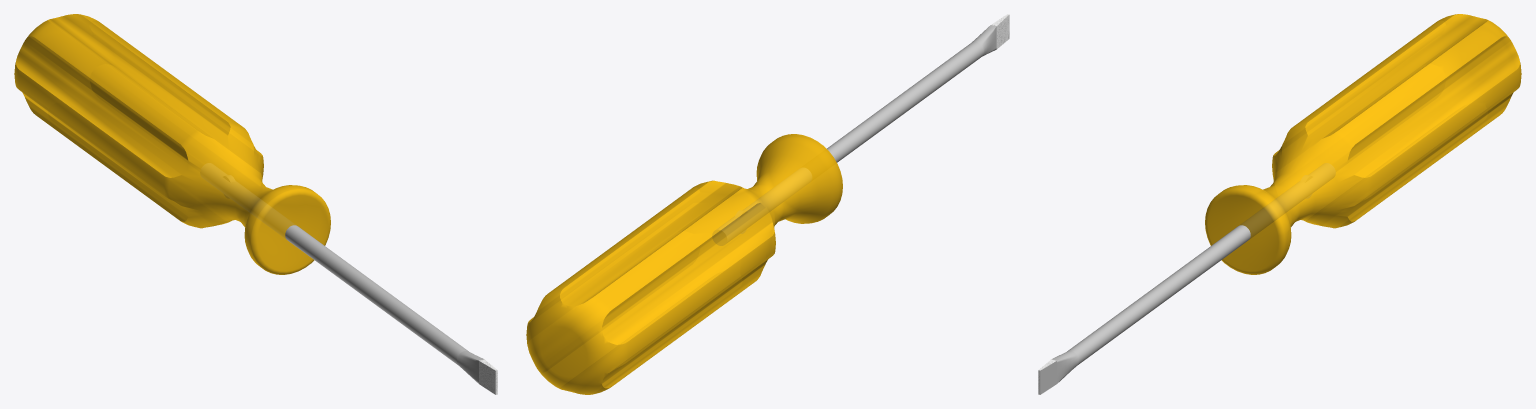
The model's file is screwdriver1.dae.
3 renders of one model, left to right at view 1: azimuth 30°, elevation 25°; view 2: azimuth 150°, elevation 25°; view 3: azimuth 330°, elevation 25°, orthographic.
Visible parts, largest first — view 1: group_4, group_2 (×2); view 2: group_4, group_2; view 3: group_4, group_2.
Part boxes in pixels (x1=…): group_4: x1=14, y1=14, x2=330, y2=274; group_2 (×2): x1=200, y1=163, x2=497, y2=394; group_4: x1=526, y1=134, x2=842, y2=394; group_2: x1=712, y1=25, x2=996, y2=245; group_4: x1=1205, y1=14, x2=1521, y2=274; group_2: x1=1040, y1=163, x2=1335, y2=394.
Bounding box in the file's own units: 1 × 7.87 × 0.9476.
